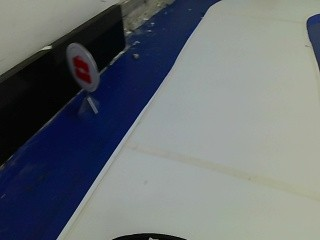company: (61, 34, 101, 96)
